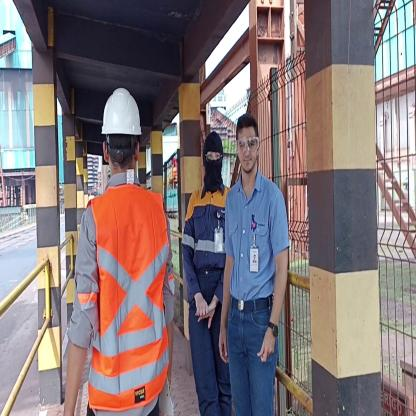Balaclava: (202, 132, 224, 193)
Capacete: (98, 80, 144, 139)
Operacional: (184, 188, 226, 271)
colete: (83, 192, 169, 402)
